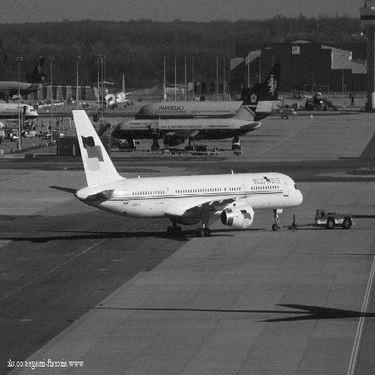car: (35, 107, 314, 240), (100, 109, 279, 150)
